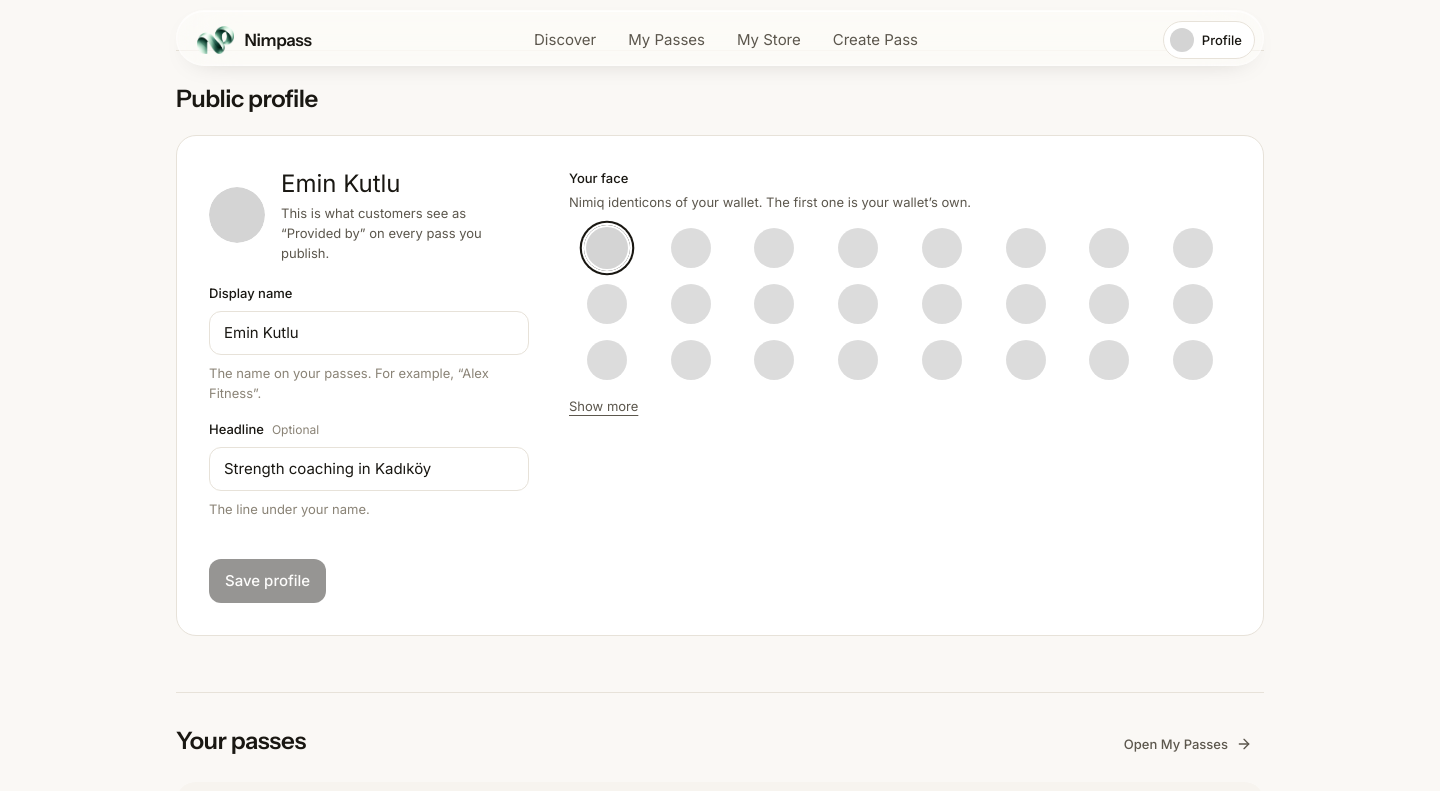
Test case: choosing a face on Profile › offers the wallet's own identicon first, and more faces on request
(page scrolled)
Click the button "Show more" at point(604, 406), box [569,396,638,416]
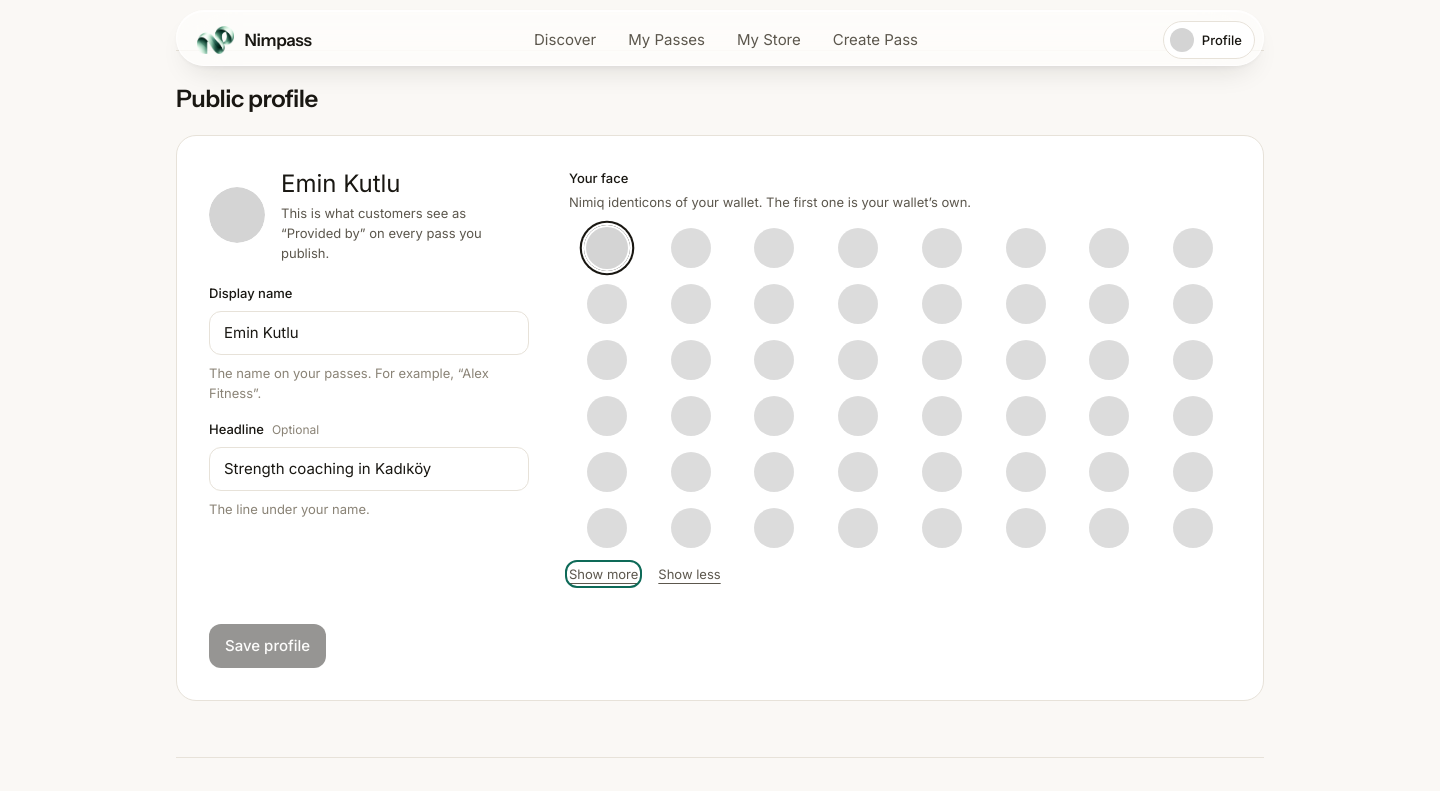
Click the button "Show less" at point(689, 574), box [658,564,721,584]
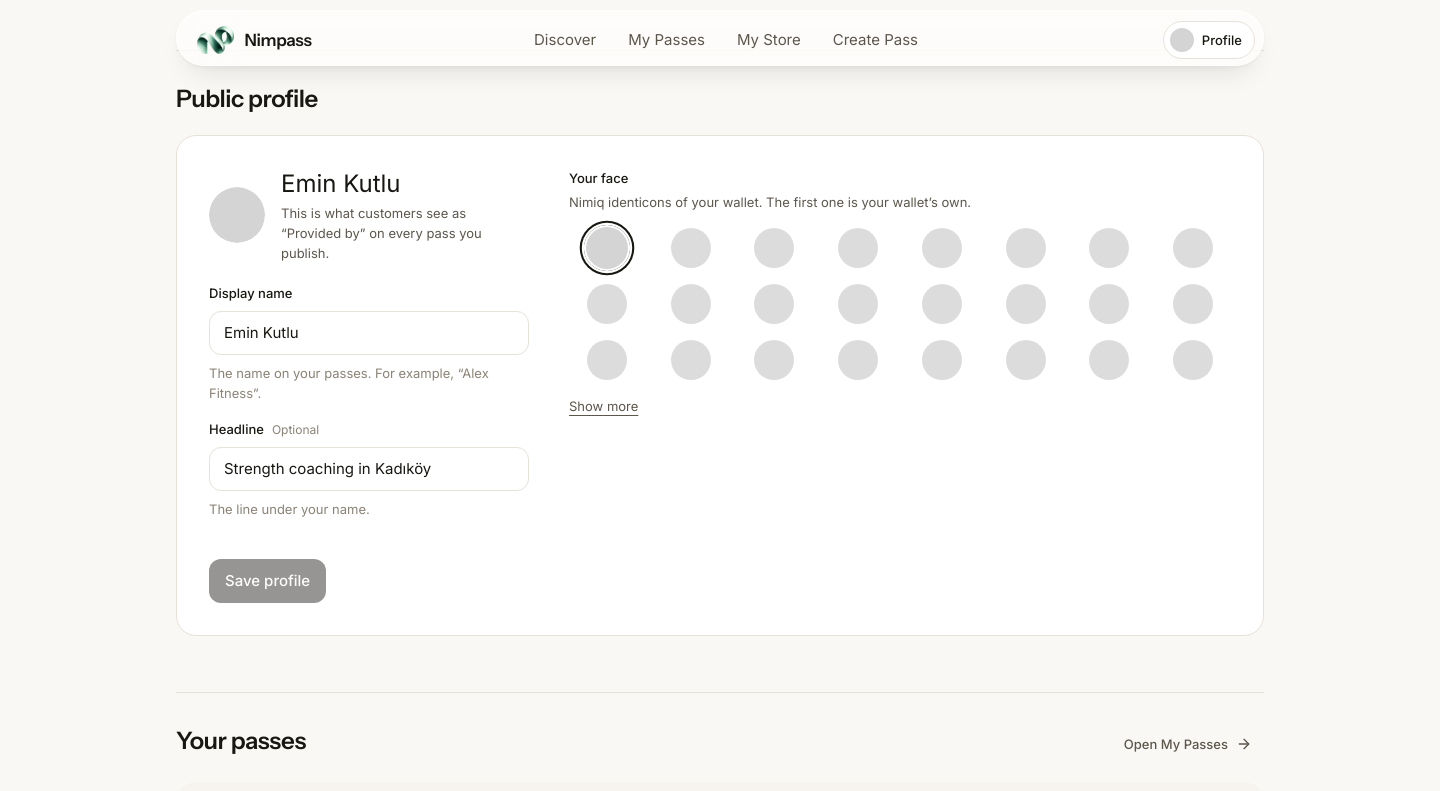
Result: the button "Show less" is gone
